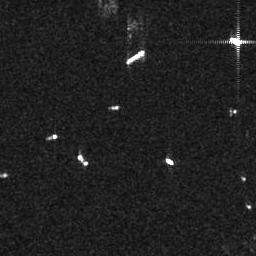ship: (125, 49, 145, 63), (228, 36, 242, 46), (78, 154, 87, 166), (165, 157, 175, 166), (46, 133, 57, 140), (109, 104, 119, 109)
